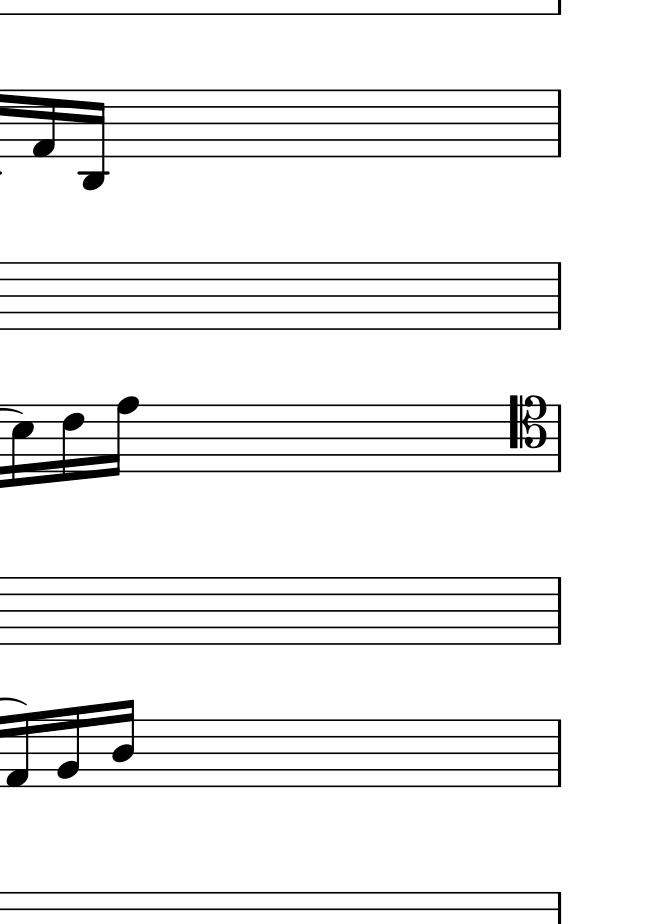16_-3: (78, 88, 108, 193)
16_1: (5, 711, 31, 790), (31, 88, 58, 159)
16_2: (55, 705, 81, 789)
16_4: (111, 698, 137, 789)
16_5: (9, 403, 35, 488)
16_6: (59, 401, 85, 483)
16_8: (105, 395, 137, 477)
Single_barline: (551, 91, 567, 157), (551, 263, 567, 329), (551, 406, 567, 471), (551, 579, 567, 644), (551, 720, 567, 785)
Tensor_Cclef: (507, 393, 548, 474)
